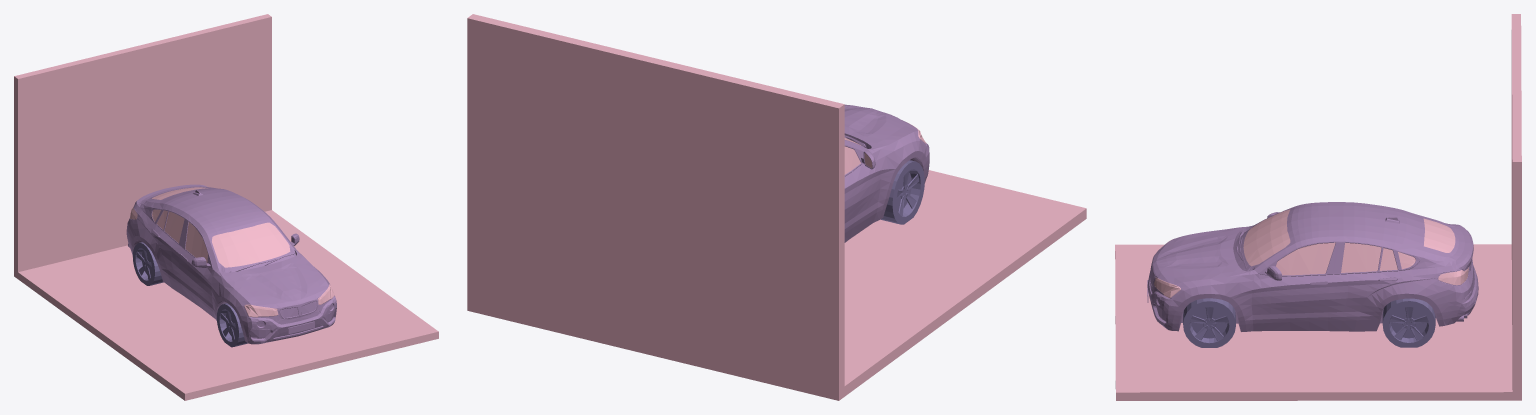
File: car_configurator_without_animation.glb
The picture shows the model from 3 angles, left to right: view 1: azimuth 30°, elevation 25°; view 2: azimuth 150°, elevation 25°; view 3: azimuth 270°, elevation 25°; orthographic projection. The views are drawn at different scales.
Parts seen in each view (by area): view 1: model; view 2: model; view 3: model.
Part boxes in pixels (box(x1,y1,x2,y2)): model: box(14, 14, 438, 400); model: box(467, 14, 1086, 400); model: box(1115, 14, 1521, 400).
Bounding box in the file's own units: 15.78 × 11.85 × 18.3.
